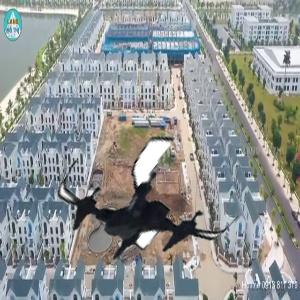drone: (61, 125, 225, 289)
